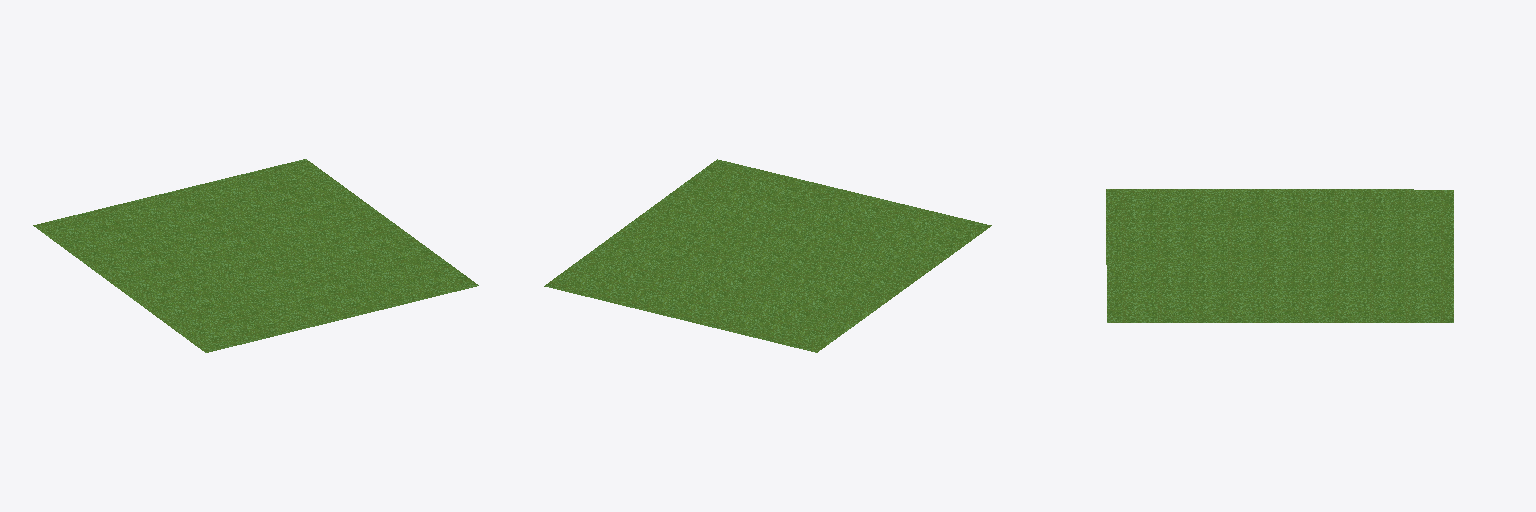
The picture shows the model from 3 angles: view 1: azimuth 30°, elevation 25°; view 2: azimuth 150°, elevation 25°; view 3: azimuth 270°, elevation 25°; orthographic projection.
Visible parts, largest first — view 1: Plane; view 2: Plane; view 3: Plane.
Boxes of the visible parts, box(x1,y1,x2,y2) form: Plane: box(33, 159, 478, 352); Plane: box(544, 159, 991, 352); Plane: box(1106, 189, 1453, 322).
Bounding box in the file's own units: 20.48 × 0 × 22.53.
1 materials, 1 textured.